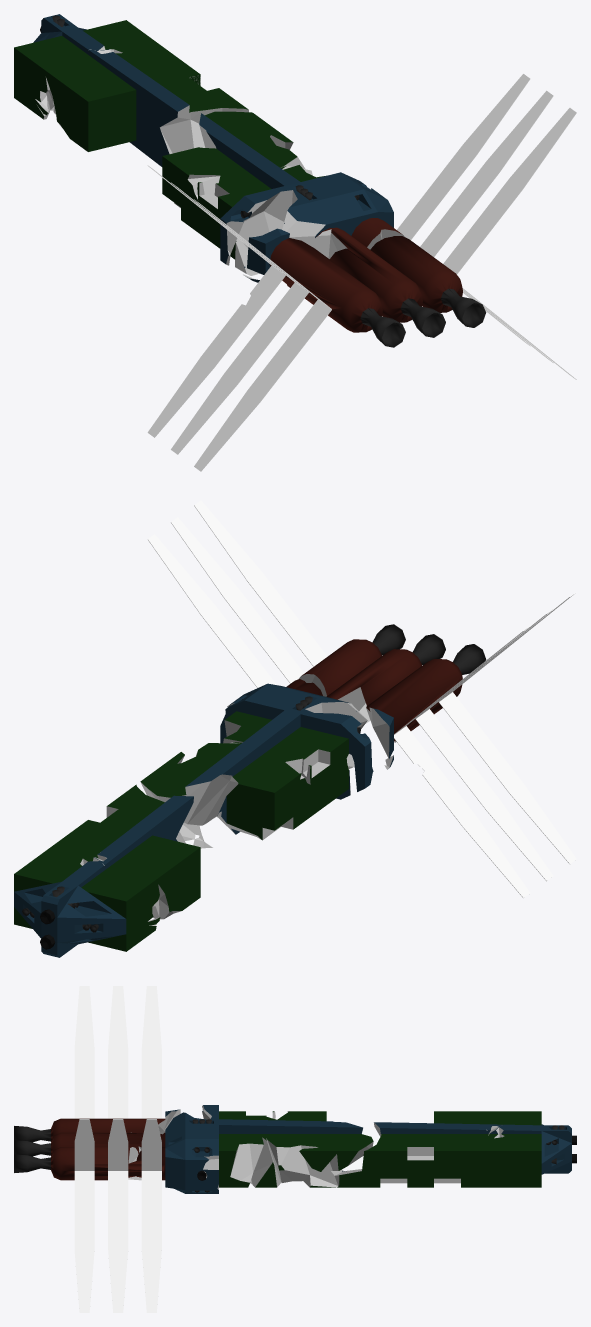
The model's file is FreightorNewWreck2.obj.
The picture shows the model from 3 angles, top to bottom: view 1: azimuth 30°, elevation 25°; view 2: azimuth 150°, elevation 25°; view 3: azimuth 270°, elevation 25°; orthographic projection. The views are drawn at different scales.
Visible parts, largest first — view 1: Main_Hull; view 2: Main_Hull; view 3: Main_Hull.
Part boxes in pixels (box(x1,y1,x2,y2)): Main_Hull: box(14, 14, 576, 471); Main_Hull: box(14, 500, 576, 957); Main_Hull: box(14, 986, 576, 1312).
Bounding box in the file's own units: 93.71 × 63.71 × 168.
